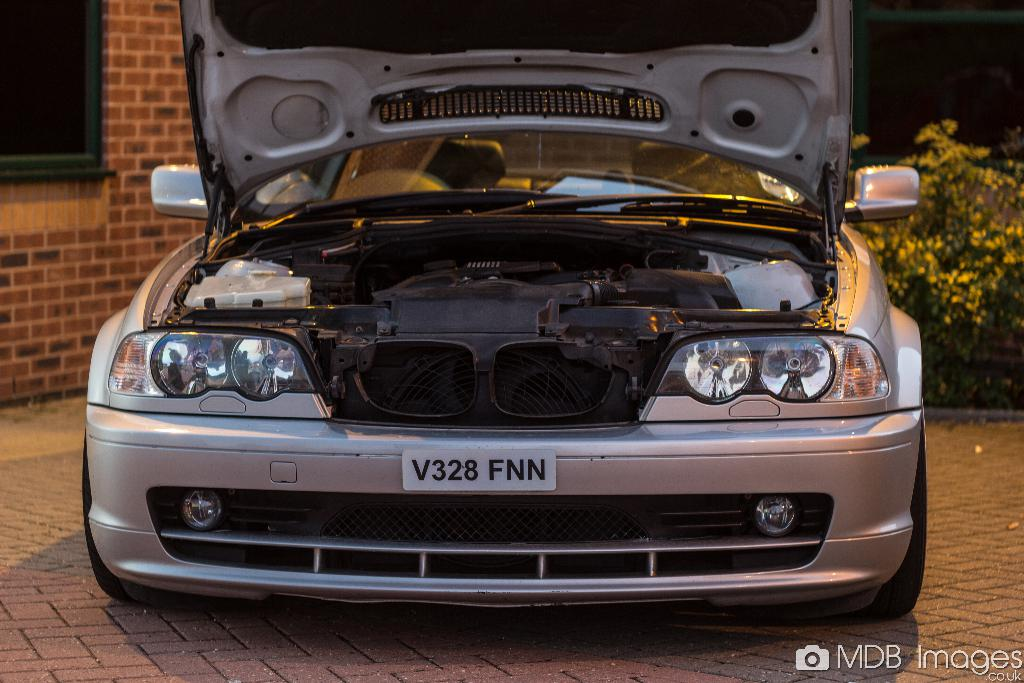Car: (82, 0, 924, 617)
